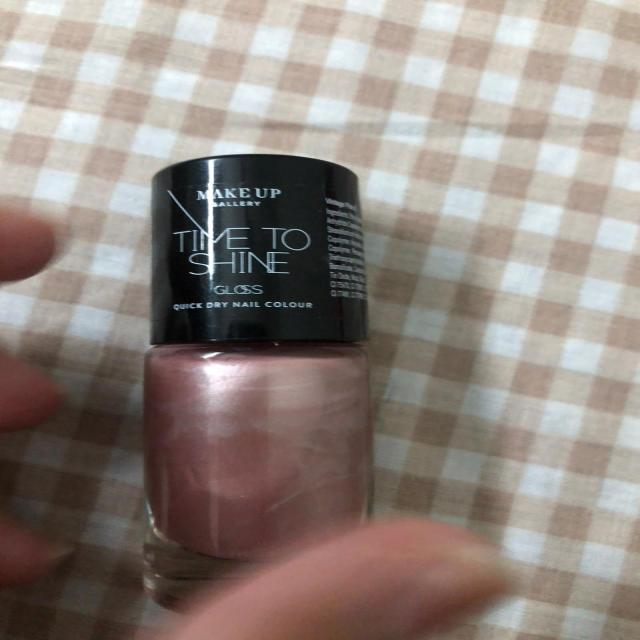nail polish: (119, 119, 418, 620)
